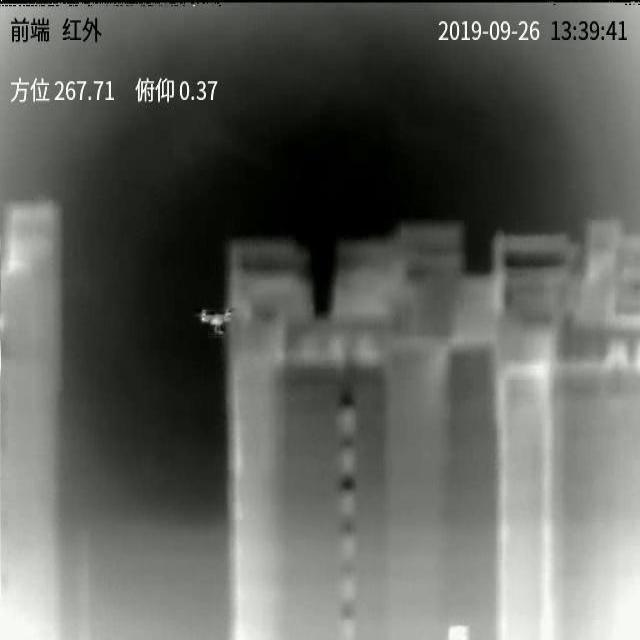drone: (198, 308, 233, 335)
